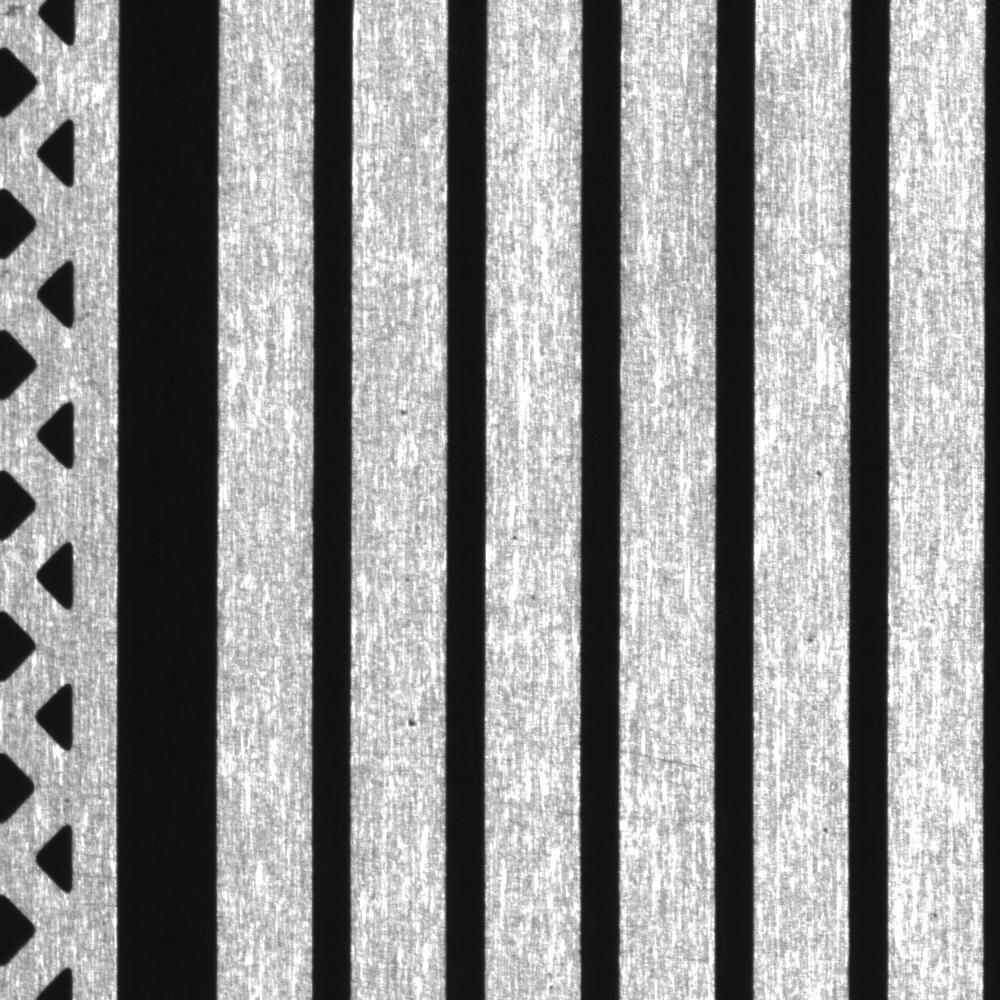Etching: (392, 703, 431, 746)
Pinhole: (805, 451, 833, 486), (922, 899, 950, 931), (389, 398, 419, 425), (797, 625, 822, 653), (815, 817, 835, 844), (503, 526, 528, 546), (523, 583, 543, 607), (398, 567, 418, 589)
Scar: (618, 736, 715, 784)
